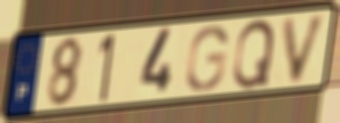1: (97, 31, 117, 104)
4: (138, 24, 178, 101)
8: (46, 35, 86, 109)
G: (183, 24, 230, 94)
Q: (231, 17, 278, 92)
V: (281, 11, 331, 87)
